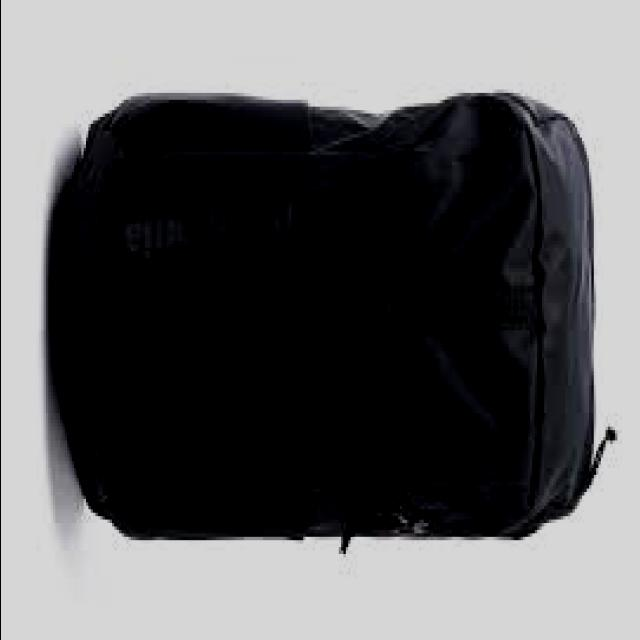backpack: (58, 88, 620, 552)
